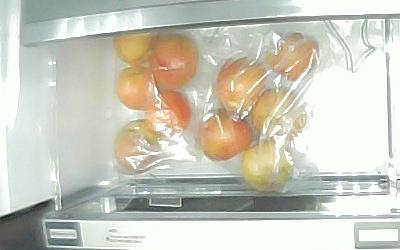prune_vinyl: (216, 56, 268, 114), (251, 88, 309, 140), (241, 142, 298, 193), (198, 109, 252, 161), (150, 33, 197, 90), (267, 31, 319, 82), (114, 118, 159, 174), (144, 89, 192, 138), (117, 65, 157, 110), (112, 30, 157, 67)
